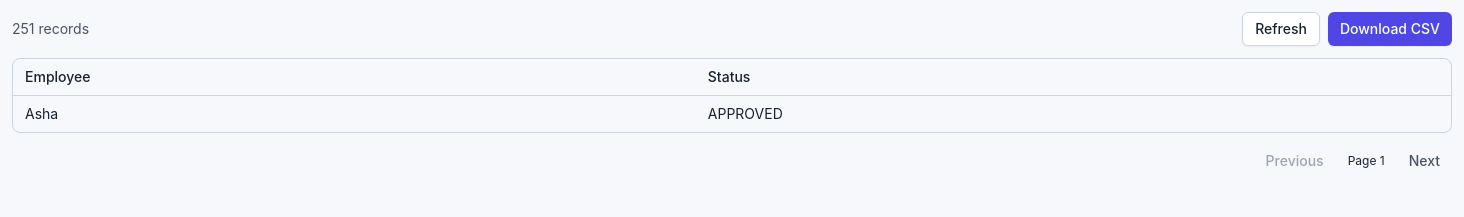
Test: complete report exports › downloads the full server CSV independently of the displayed page
Expected: the text "Asha" is shown, [13,96,696,132]
Click the button "Download CSV" at (1390, 29), box [1328,12,1452,46]
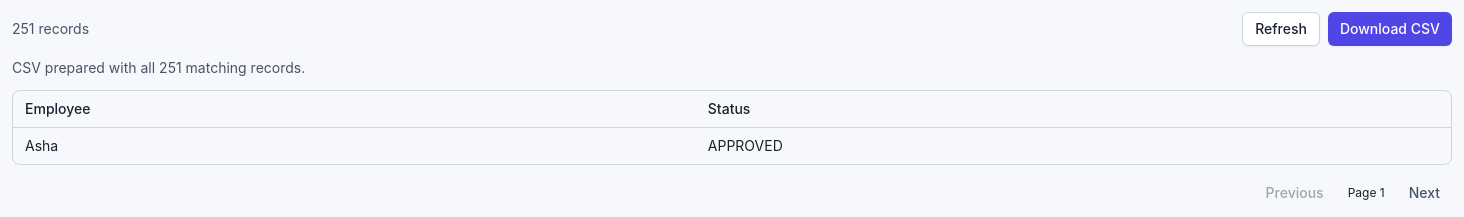
Now the text "CSV prepared with all 251 matching records." is shown, box [12,59,305,76]
